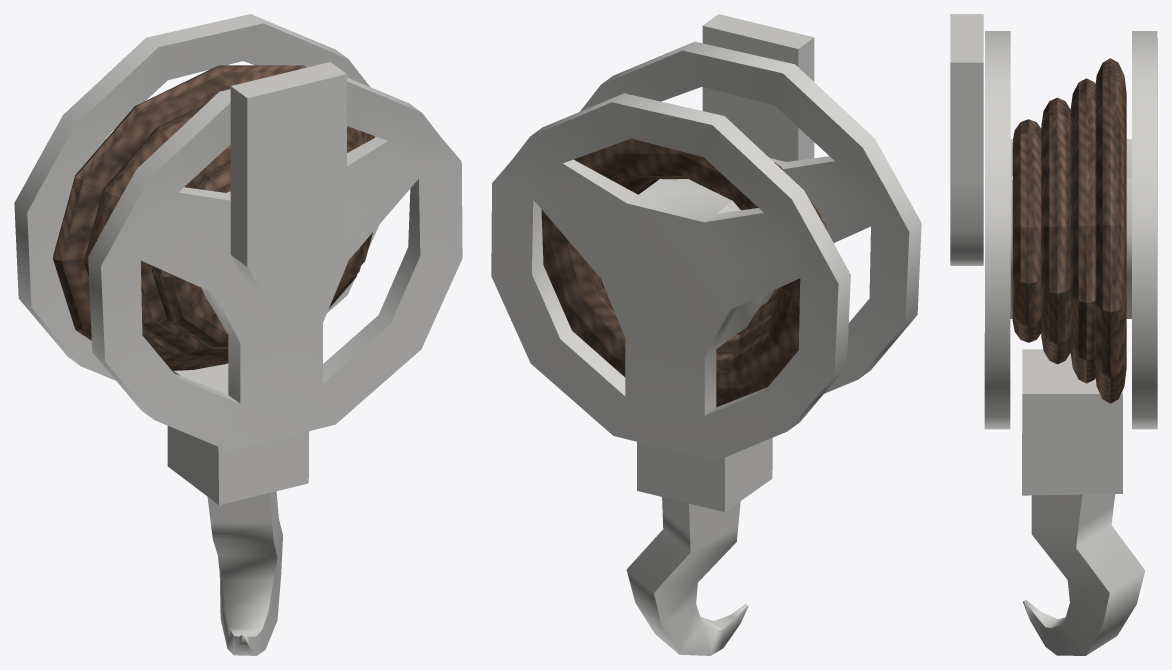
The model's file is Polea_conGancho.fbx.
3 renders of one model, left to right at view 1: azimuth 30°, elevation 25°; view 2: azimuth 150°, elevation 25°; view 3: azimuth 270°, elevation 25°, orthographic. The views are drawn at different scales.
Visible parts, largest first — view 1: Cylinder.005, Plane.014, Torus.004, Cube.011; view 2: Cylinder.005, Cube.011, Torus.004, Plane.014; view 3: Torus.004, Cube.011, Cylinder.005, Plane.014.
Part boxes in pixels (left/top/right/bottom): Cylinder.005: left=14, top=14, right=462, bottom=450; Plane.014: left=230, top=62, right=346, bottom=308; Torus.004: left=53, top=65, right=374, bottom=370; Cube.011: left=167, top=363, right=309, bottom=655; Cylinder.005: left=491, top=41, right=921, bottom=460; Cube.011: left=626, top=438, right=772, bottom=655; Torus.004: left=541, top=138, right=827, bottom=407; Plane.014: left=702, top=14, right=814, bottom=161; Torus.004: left=1012, top=58, right=1126, bottom=403; Cube.011: left=1022, top=349, right=1145, bottom=655; Cylinder.005: left=984, top=31, right=1157, bottom=429; Plane.014: left=950, top=14, right=983, bottom=265.
Size of the model in its own units: 224 by 360 by 112.
Materials: 2 (2 with a texture image).
